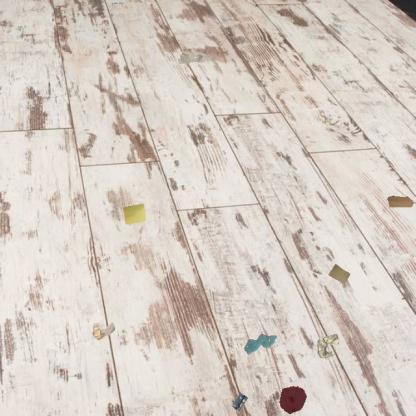dirty: (314, 332, 340, 362), (122, 201, 148, 227), (90, 319, 117, 342), (176, 49, 210, 66), (327, 262, 352, 285), (385, 194, 415, 210), (229, 390, 249, 413)
liquid: (278, 385, 308, 415), (243, 332, 277, 356)
